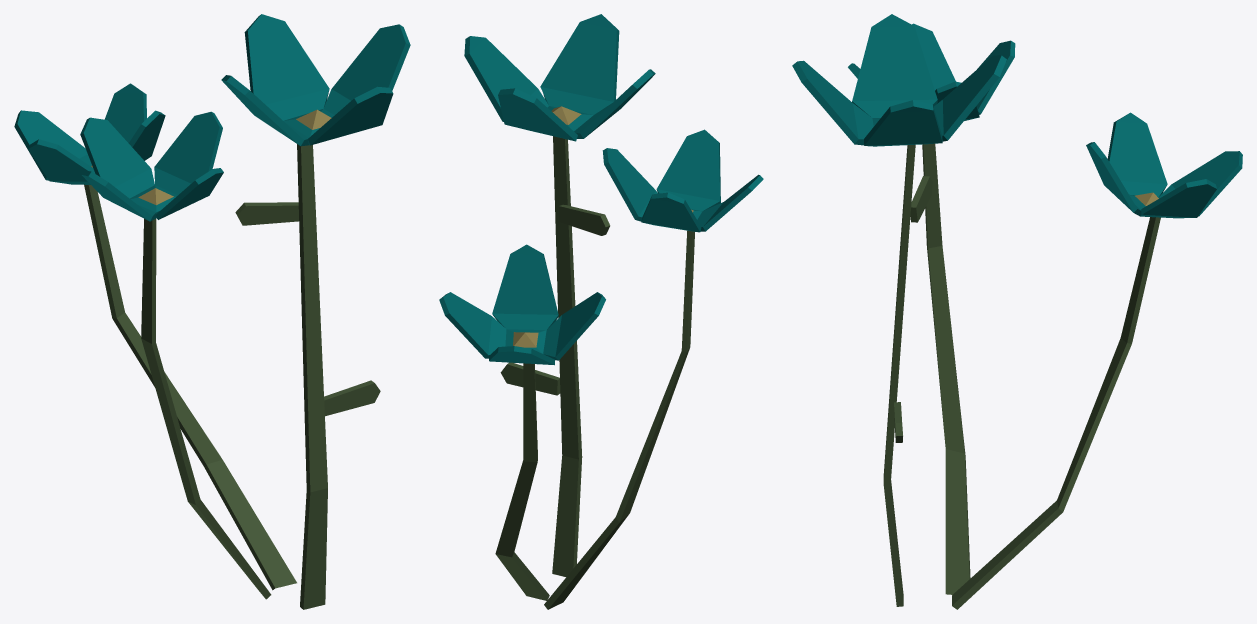
The model's file is Flowers.glb.
3 views of the same model, side by side, from view 1: azimuth 30°, elevation 25°; view 2: azimuth 150°, elevation 25°; view 3: azimuth 270°, elevation 25° (orthographic). The views are drawn at different scales.
Visible parts, largest first — view 1: Flowers; view 2: Flowers; view 3: Flowers.
Boxes of the visible parts, left/top/right/bottom form: Flowers: left=14, top=14, right=410, bottom=609; Flowers: left=439, top=14, right=763, bottom=609; Flowers: left=792, top=14, right=1242, bottom=609.
Bounding box in the file's own units: 0.4895 × 0.8289 × 0.6137.
